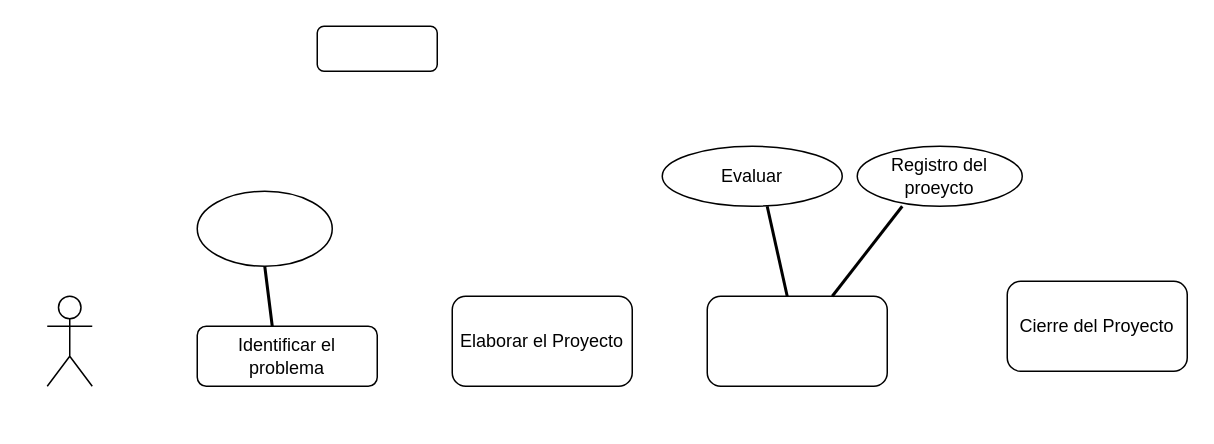
Image size: 1214x444. Some labels were removed from this diagram. Here are the shapes that lost their labels. From the top down, the centre of each, then its label:
At point (264, 228): "Observación".
At point (69, 340): "DOCENTE".
At point (796, 340): "S. RSU".
